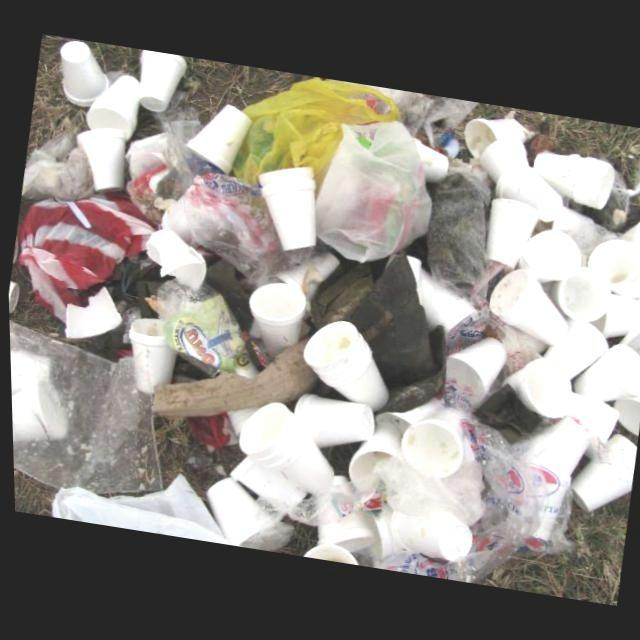cardboard: (147, 346, 319, 422)
plastic_bag: (381, 425, 569, 585), (7, 319, 163, 500), (15, 190, 160, 323), (225, 80, 403, 188), (314, 124, 431, 258), (163, 173, 281, 290), (154, 281, 257, 381), (123, 99, 199, 231), (18, 133, 81, 215)
